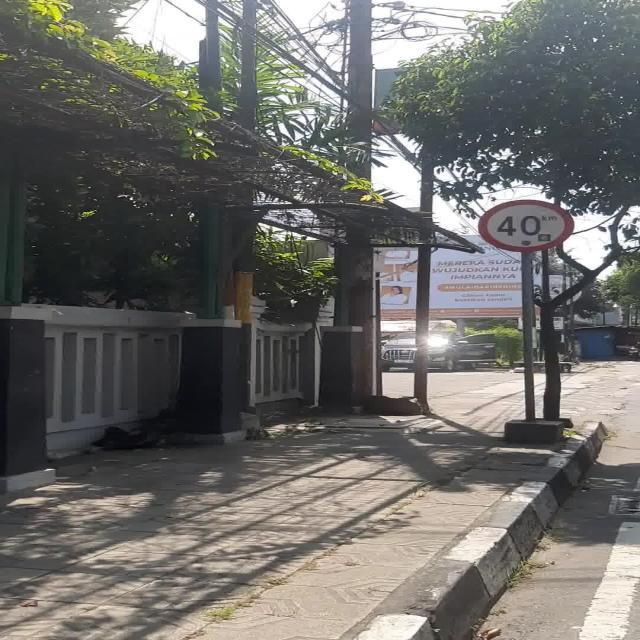Kecepatan Maks. 40 km: (478, 200, 575, 252)
